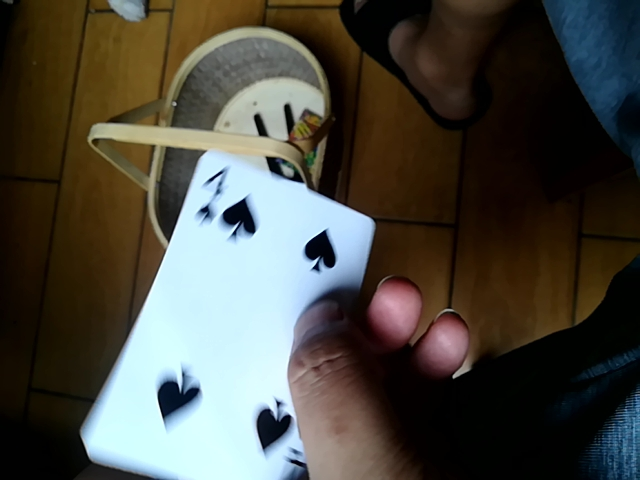ht 4: (83, 141, 384, 478)
